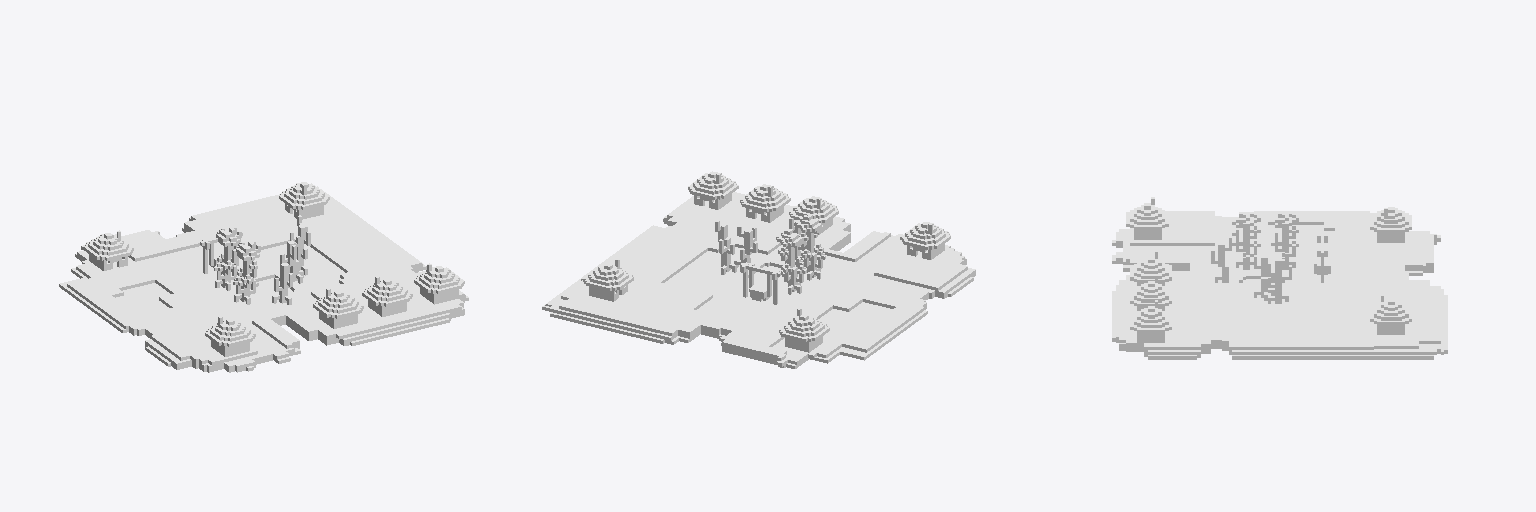
The model's file is Brujas.obj.
3 renders of one model, left to right at view 1: azimuth 30°, elevation 25°; view 2: azimuth 150°, elevation 25°; view 3: azimuth 270°, elevation 25°, orthographic.
Visible parts, largest first — view 1: object 1; view 2: object 1; view 3: object 1.
Boxes of the visible parts, x1=… form: object 1: x1=59, y1=182, x2=468, y2=372; object 1: x1=542, y1=171, x2=975, y2=368; object 1: x1=1112, y1=197, x2=1447, y2=359.
Size of the model in its own units: 9.6 by 2 by 9.5.